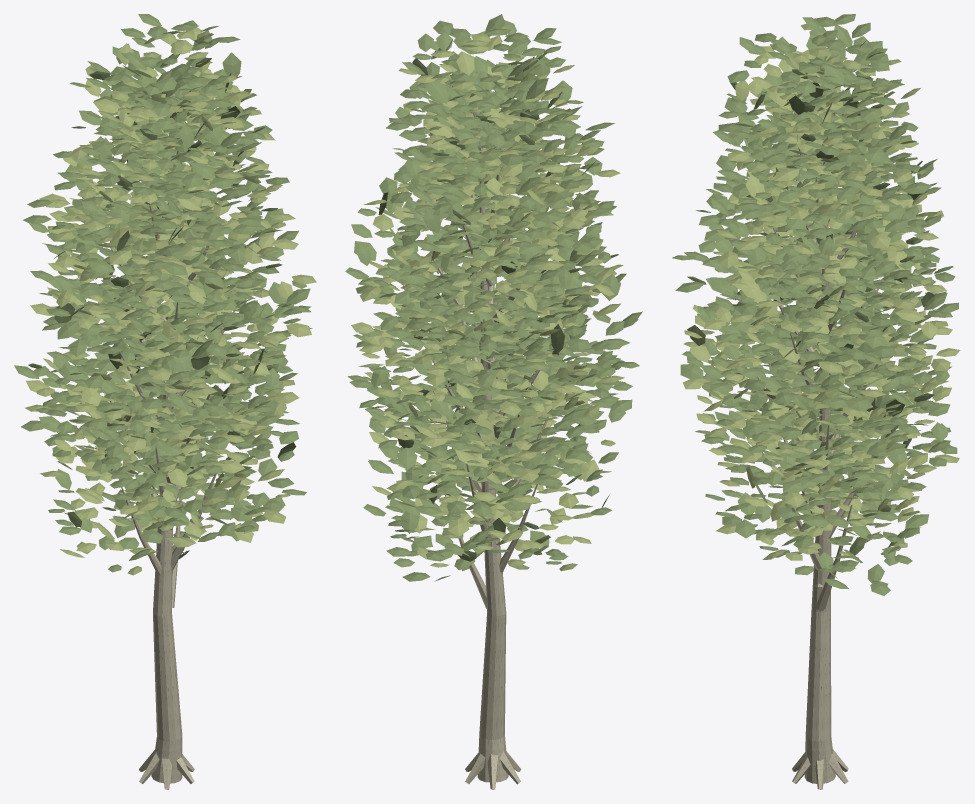
Rendered from Tree2.fbx.
3 views of the same model, side by side, from view 1: azimuth 30°, elevation 25°; view 2: azimuth 150°, elevation 25°; view 3: azimuth 270°, elevation 25° (orthographic).
Visible parts, largest first — view 1: Tree2_LOD0; view 2: Tree2_LOD0; view 3: Tree2_LOD0.
Part boxes in pixels (box(x1,y1,x2,y2)): Tree2_LOD0: box(14, 14, 316, 789); Tree2_LOD0: box(345, 14, 642, 789); Tree2_LOD0: box(672, 14, 960, 789).
Size of what is drawn, in the model's own units: 318 by 914 by 315.
Materials: 1 (1 with a texture image).
